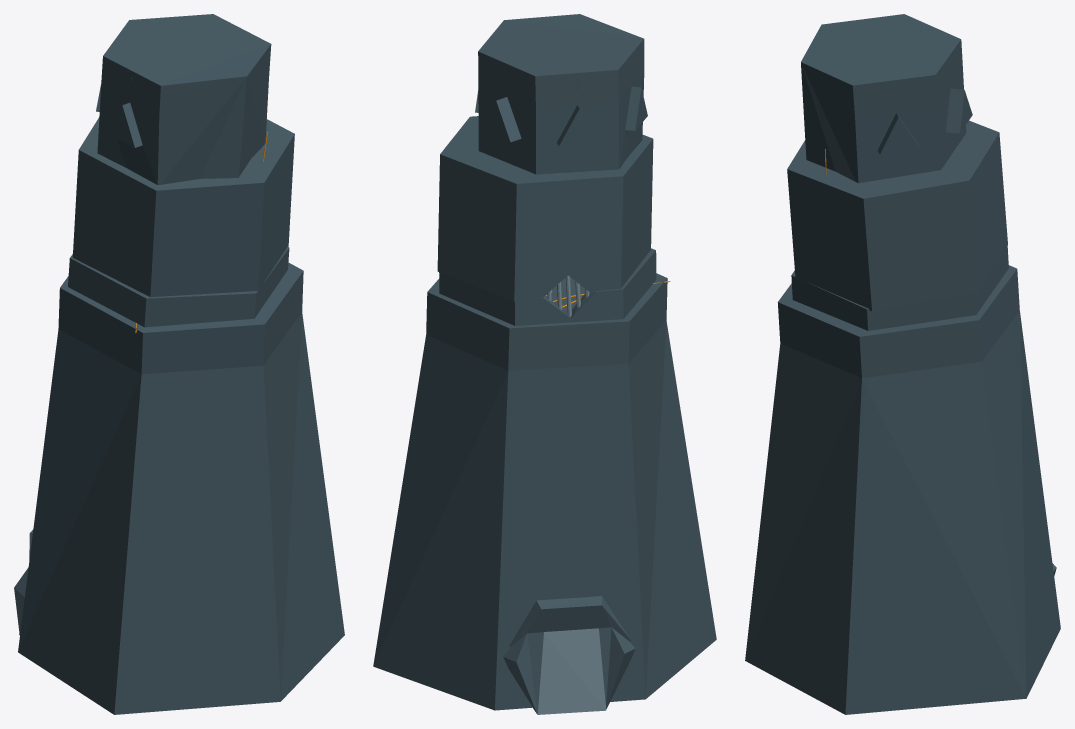
The picture shows the model from 3 angles, left to right: view 1: azimuth 30°, elevation 25°; view 2: azimuth 150°, elevation 25°; view 3: azimuth 270°, elevation 25°; orthographic projection.
Visible parts, largest first — view 1: group_1569555808, group_1248911004, group_762080226, group_1046710293, group_691478520; view 2: group_1569555808, group_1248911004, group_762080226, group_691478520, group_1046710293, group_2111483713; view 3: group_1569555808, group_1248911004, group_762080226, group_1046710293.
Boxes of the visible parts, x1=… form: group_1569555808: x1=18, y1=262, x2=344, y2=714; group_1248911004: x1=72, y1=117, x2=294, y2=297; group_762080226: x1=96, y1=14, x2=271, y2=184; group_1046710293: x1=68, y1=247, x2=289, y2=327; group_691478520: x1=14, y1=529, x2=33, y2=635; group_1569555808: x1=373, y1=273, x2=716, y2=710; group_1248911004: x1=437, y1=116, x2=653, y2=301; group_762080226: x1=475, y1=14, x2=647, y2=174; group_691478520: x1=503, y1=596, x2=635, y2=714; group_1046710293: x1=439, y1=248, x2=656, y2=325; group_2111483713: x1=537, y1=628, x2=606, y2=714; group_1569555808: x1=745, y1=265, x2=1060, y2=714; group_1248911004: x1=787, y1=120, x2=1007, y2=311; group_762080226: x1=801, y1=14, x2=972, y2=183; group_1046710293: x1=791, y1=246, x2=1008, y2=330.
Bounding box in the file's own units: 40.55 × 88.27 × 42.
